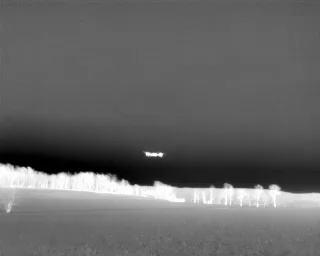DRONE: (139, 146, 168, 162)
